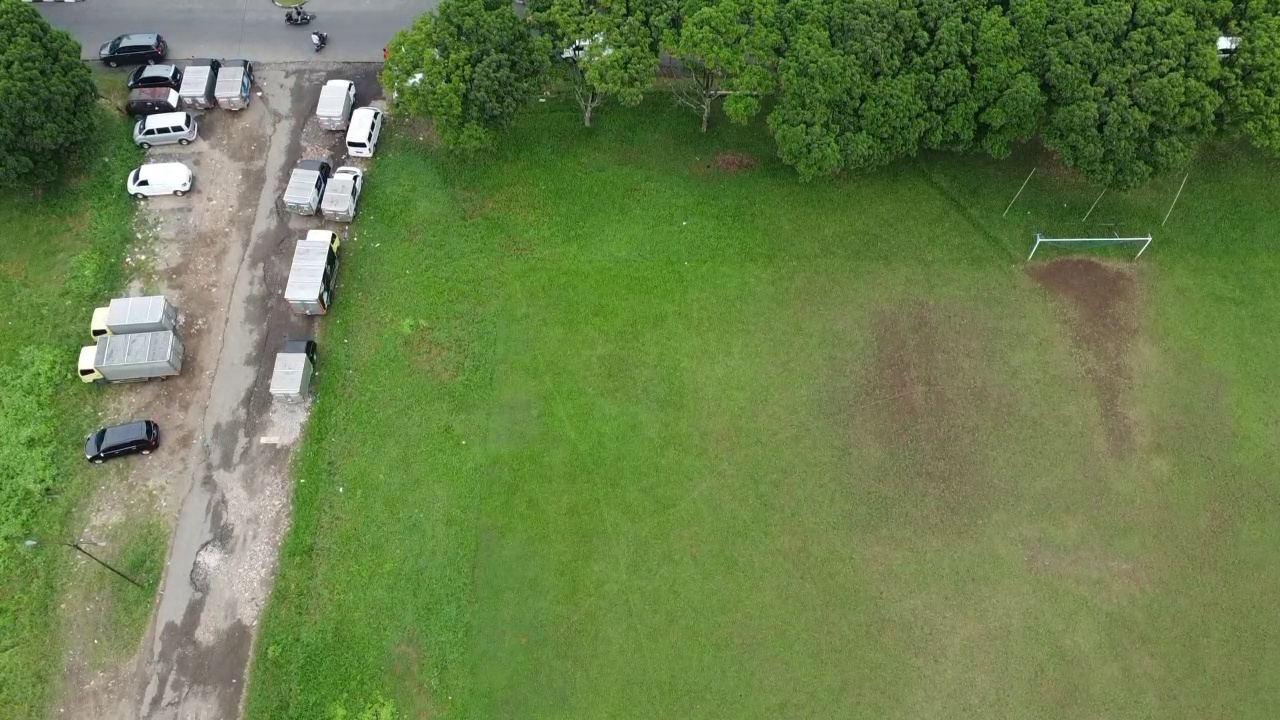mobil: (92, 27, 177, 71), (79, 418, 162, 459), (123, 158, 199, 200), (130, 109, 201, 146), (344, 104, 384, 161), (125, 84, 184, 115), (128, 61, 187, 92)
